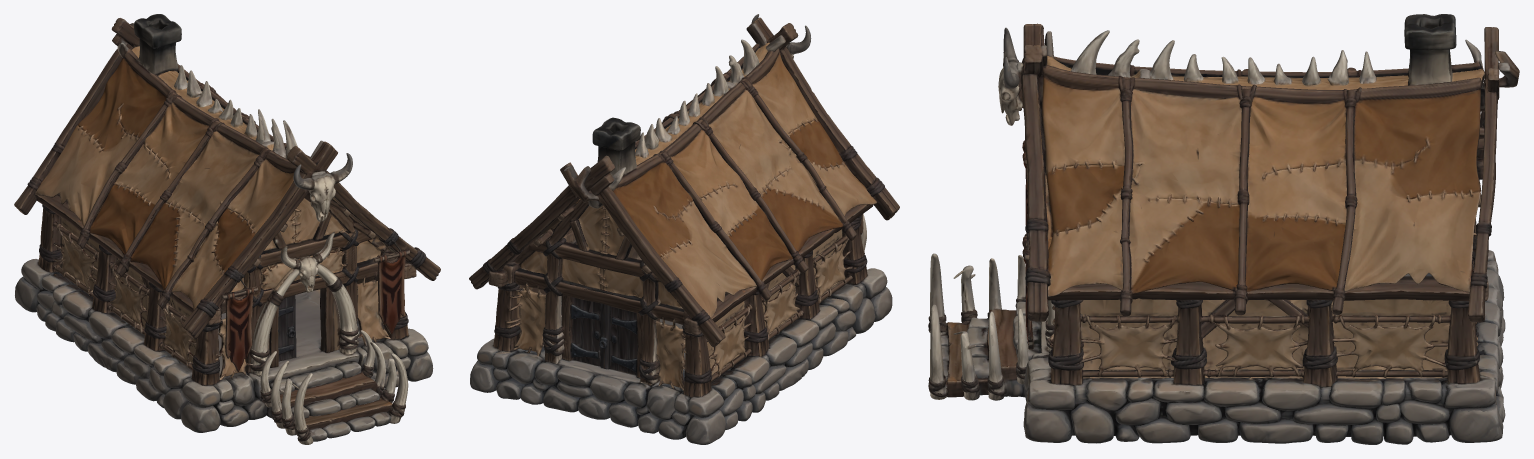
File: TrollTanner_300k.glb
The picture shows the model from 3 angles, left to right: view 1: azimuth 30°, elevation 25°; view 2: azimuth 150°, elevation 25°; view 3: azimuth 270°, elevation 25°; orthographic projection. The views are drawn at different scales.
Visible parts, largest first — view 1: Mesh_0; view 2: Mesh_0; view 3: Mesh_0.
Boxes of the visible parts, x1,y1,x2,y2 form: Mesh_0: (14, 14, 440, 444); Mesh_0: (469, 14, 899, 444); Mesh_0: (928, 14, 1519, 444).
Bounding box in the file's own units: 1.21 × 1.23 × 1.9.
1 material, 1 textured.
